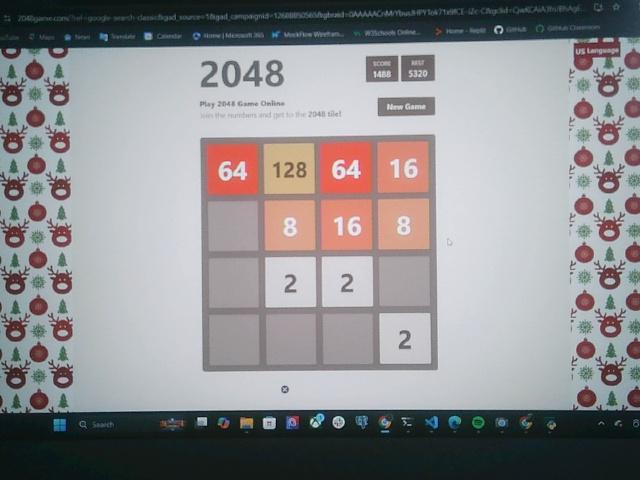board: (202, 137, 438, 371)
tile: (379, 314, 433, 366), (378, 199, 430, 251), (320, 143, 372, 194), (379, 142, 431, 193), (265, 200, 317, 251), (266, 257, 318, 308), (323, 256, 374, 308), (265, 143, 316, 194), (322, 200, 372, 251), (209, 145, 258, 195)
